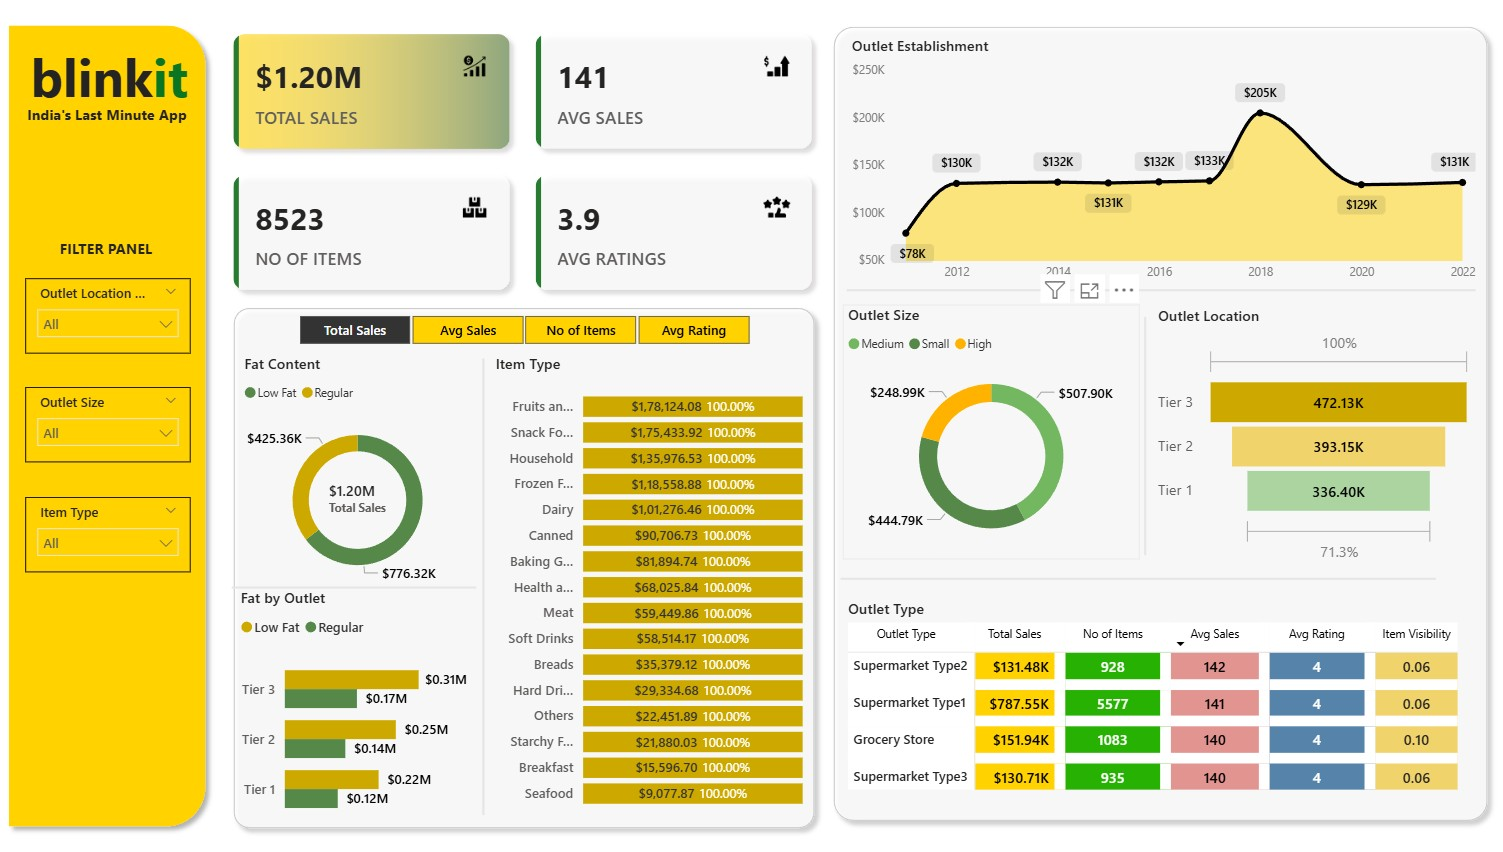

This screenshot's page, from the dashboard's own definition file:
{"tool":"powerbi","page":{"name":"Page 1","canvas":[1400,800],"ordinal":0},"visuals":[{"type":"shape","box":[0,22.5,199.6,757.9],"z":0},{"type":"textbox","box":[24,40.5,217.6,75],"z":1000},{"type":"textbox","box":[0,99.1,199.6,57],"z":2000},{"type":"cardVisual","fields":{"Data":["BlinkIT Grocery Data.Total Sales","BlinkIT Grocery Data.Avg Sales","BlinkIT Grocery Data.No of Items","BlinkIT Grocery Data.Avg Rating"]},"box":[199.7,21.6,569.8,270.9],"z":3000},{"type":"shape","box":[207.3,282.3,554.5,498.5],"z":4000},{"type":"donutChart","title":"Fat Content","fields":{"Y":["BlinkIT Grocery Data.Total Sales"],"Category":["BlinkIT Grocery Data.Item Fat Content"]},"box":[221.7,333.7,219.4,226.3],"z":5000},{"type":"slicer","title":"Fat Content","fields":{"Values":["Metrix.Metrix"]},"box":[251.8,292.5,465.5,36.9],"z":6000},{"type":"cardVisual","fields":{"Data":["BlinkIT Grocery Data.Total Sales"]},"box":[287.5,427.3,87.8,79.7],"z":7000},{"type":"clusteredBarChart","title":"Fat by Outlet","fields":{"Y":["BlinkIT Grocery Data.Total Sales"],"Category":["BlinkIT Grocery Data.Outlet Location Type"],"Series":["BlinkIT Grocery Data.Item Fat Content"]},"box":[218.2,549.7,219.4,229.8],"z":8000},{"type":"shape","box":[214.9,532.9,226.4,35.6],"z":9000},{"type":"shape","box":[441.3,338.3,12.7,422.2],"z":10000},{"type":"hundredPercentStackedBarChart","title":"Item Type","fields":{"Y":["BlinkIT Grocery Data.Total Sales"],"Category":["BlinkIT Grocery Data.Item Type"]},"box":[454,333.2,293.8,431.1],"z":11000},{"type":"shape","box":[761.8,22.9,621.9,751.6],"z":12000},{"type":"lineChart","title":"Outlet Establishment","fields":{"Y":["BlinkIT Grocery Data.Total Sales"],"Category":["BlinkIT Grocery Data.Outlet Establishment Year"]},"box":[783.4,40.7,586.3,235.3],"z":13000},{"type":"shape","box":[783.4,262,581.2,26.7],"z":14000},{"type":"donutChart","title":"Outlet Size","fields":{"Y":["BlinkIT Grocery Data.Total Sales"],"Category":["BlinkIT Grocery Data.Outlet Size"]},"box":[779.6,288.7,274.7,235.3],"z":15000},{"type":"shape","box":[1053.1,300.1,11.4,220],"z":16000},{"type":"funnel","title":"Outlet Location","fields":{"Y":["Sum(BlinkIT Grocery Data.Sales)"],"Category":["BlinkIT Grocery Data.Outlet Location Type"]},"box":[1065.8,290,300.1,242.9],"z":17000},{"type":"shape","box":[777.1,524,550.7,35.6],"z":18000},{"type":"pivotTable","title":"Outlet Type","fields":{"Values":["BlinkIT Grocery Data.Total Sales","BlinkIT Grocery Data.No of Items","BlinkIT Grocery Data.Avg Sales","BlinkIT Grocery Data.Avg Rating","Avg(BlinkIT Grocery Data.Item Visibility)"],"Rows":["BlinkIT Grocery Data.Outlet Type"]},"box":[779.6,559.6,586.3,200.9],"z":19000},{"type":"slicer","fields":{"Values":["BlinkIT Grocery Data.Outlet Location Type"]},"box":[24.2,264.5,152.6,69.9],"z":20000},{"type":"slicer","fields":{"Values":["BlinkIT Grocery Data.Item Type"]},"box":[24.2,466.8,152.6,69.9],"z":21000},{"type":"slicer","fields":{"Values":["BlinkIT Grocery Data.Outlet Size"]},"box":[24.2,365,152.6,69.9],"z":22000},{"type":"textbox","box":[33.1,222.6,131,39.4],"z":22001}]}

Visuals, with their boxes in screenshot pixels (x1, y1, x2, y2), scaled from the page's 1400x800 canvas onto the 1503x852 screenshot:
shape: rect(0, 24, 214, 831)
textbox: rect(26, 43, 259, 123)
textbox: rect(0, 106, 214, 166)
cardVisual - BlinkIT Grocery Data.Total Sales x BlinkIT Grocery Data.Avg Sales: rect(214, 23, 826, 312)
shape: rect(223, 301, 818, 832)
"Fat Content" donutChart: rect(238, 355, 474, 596)
"Fat Content" slicer: rect(270, 312, 770, 351)
cardVisual - BlinkIT Grocery Data.Total Sales: rect(309, 455, 403, 540)
"Fat by Outlet" clusteredBarChart: rect(234, 585, 470, 830)
shape: rect(231, 568, 474, 605)
shape: rect(474, 360, 487, 810)
"Item Type" hundredPercentStackedBarChart: rect(487, 355, 803, 814)
shape: rect(818, 24, 1486, 825)
"Outlet Establishment" lineChart: rect(841, 43, 1470, 294)
shape: rect(841, 279, 1465, 307)
"Outlet Size" donutChart: rect(837, 307, 1132, 558)
shape: rect(1131, 320, 1143, 554)
"Outlet Location" funnel: rect(1144, 309, 1466, 568)
shape: rect(834, 558, 1425, 596)
"Outlet Type" pivotTable: rect(837, 596, 1466, 810)
slicer - BlinkIT Grocery Data.Outlet Location Type: rect(26, 282, 190, 356)
slicer - BlinkIT Grocery Data.Item Type: rect(26, 497, 190, 572)
slicer - BlinkIT Grocery Data.Outlet Size: rect(26, 389, 190, 463)
textbox: rect(36, 237, 176, 279)
